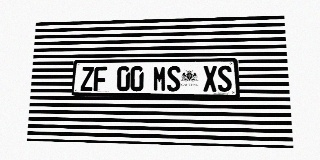0: (130, 66, 144, 91), (117, 66, 130, 91)
F: (93, 66, 107, 91)
M: (153, 66, 166, 91)
S: (217, 65, 232, 92), (167, 66, 180, 91)
X: (203, 66, 217, 92)
Z: (80, 66, 94, 91)
